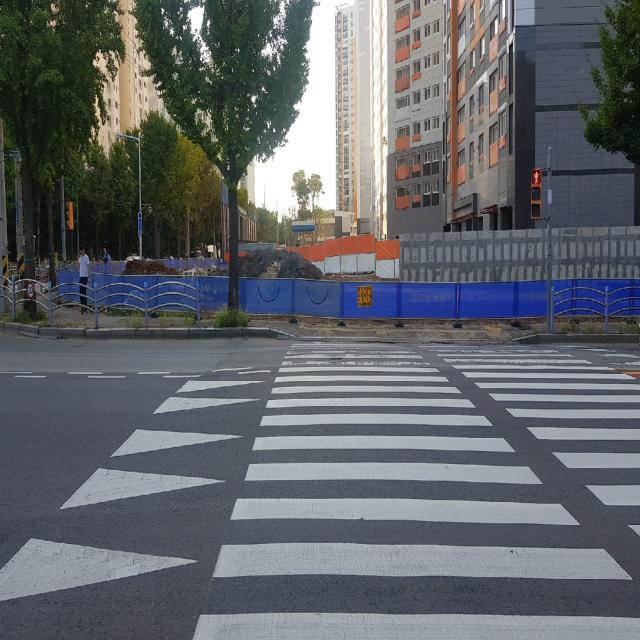빨간불: (532, 169, 542, 218)
횡단보도: (193, 339, 640, 640)
